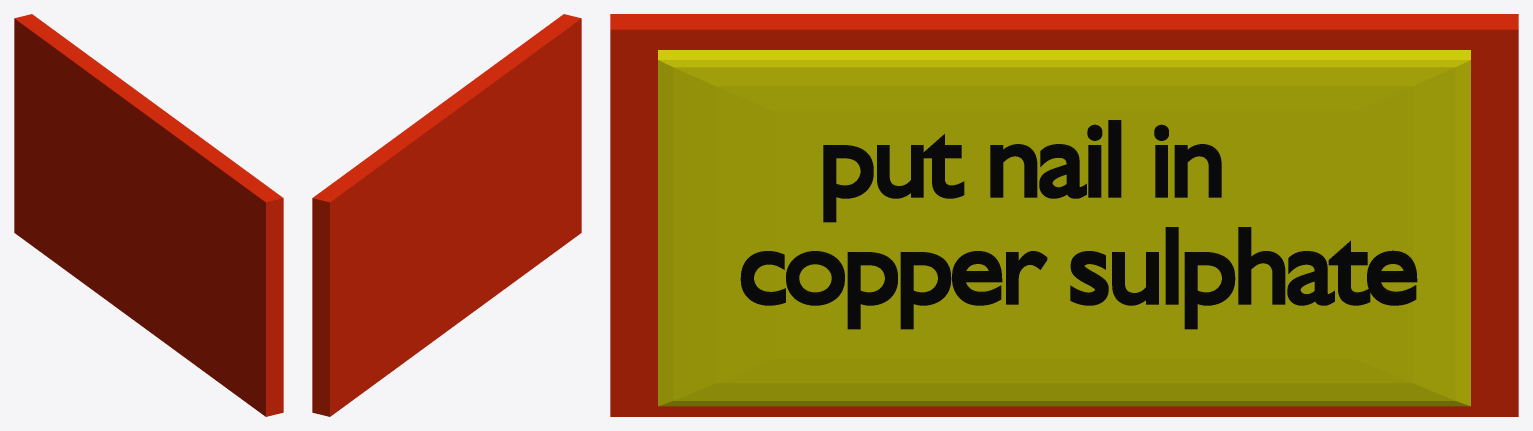
Rendered from nails button 1.gltf.
3 views of the same model, side by side, from view 1: azimuth 30°, elevation 25°; view 2: azimuth 150°, elevation 25°; view 3: azimuth 270°, elevation 25° (orthographic). The views are drawn at different scales.
Parts seen in each view (by area): view 1: Cube; view 2: Cube; view 3: Cube, Text.
Part boxes in pixels (x1=…): Cube: x1=14, y1=14, x2=283, y2=416; Cube: x1=312, y1=14, x2=581, y2=416; Cube: x1=610, y1=14, x2=1518, y2=416; Text: x1=740, y1=120, x2=1417, y2=329.
Size of the model in its own units: 0.3343 by 2 by 4.25.
